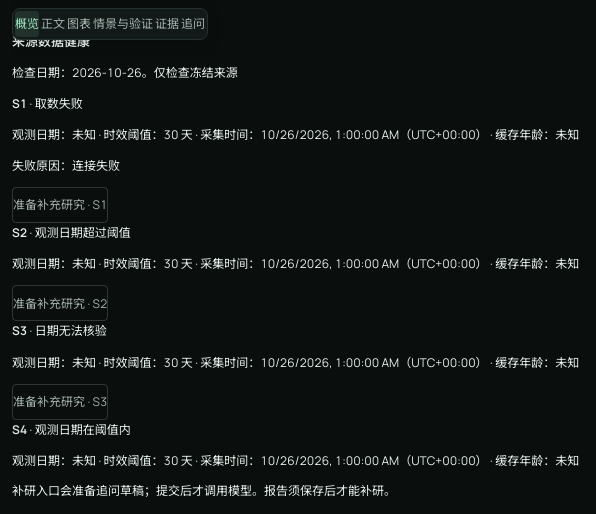
Test: 来源健康与补研入口 › 在报告概览准备问题后打开现有追问页签，由用户继续提交
The image size is (596, 514).
Click the button "准备补充研究 · S2" at point(60, 303), box [12,285,108,321]
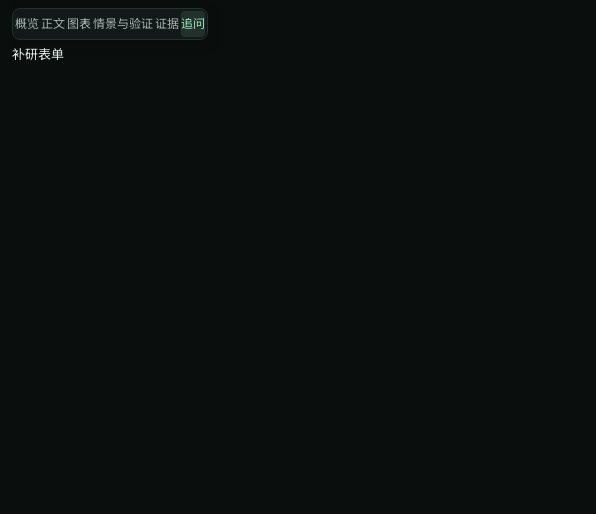
Check: the text "补研表单" is shown, box [12,45,64,63]
